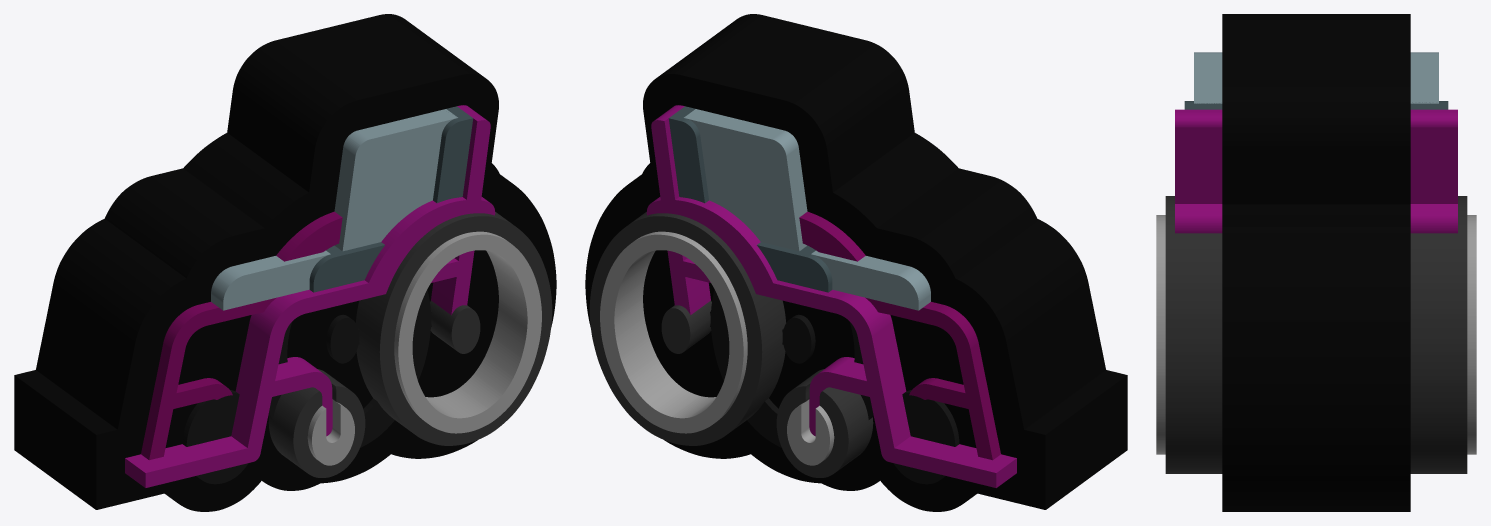
The picture shows the model from 3 angles, left to right: view 1: azimuth 30°, elevation 25°; view 2: azimuth 150°, elevation 25°; view 3: azimuth 270°, elevation 25°; orthographic projection. The views are drawn at different scales.
Visible parts, largest first — view 1: U+1F9BD_layer00_obj00, U+1F9BD_layer05_obj00, U+1F9BD_layer06_obj00, U+1F9BD_layer07_obj00, U+1F9BD_layer03_obj00, U+1F9BD_layer02_obj00, U+1F9BD_layer01_obj00, U+1F9BD_layer04_obj00; view 2: U+1F9BD_layer00_obj00, U+1F9BD_layer05_obj00, U+1F9BD_layer06_obj00, U+1F9BD_layer07_obj00, U+1F9BD_layer03_obj00, U+1F9BD_layer02_obj00, U+1F9BD_layer01_obj00, U+1F9BD_layer04_obj00; view 3: U+1F9BD_layer00_obj00, U+1F9BD_layer06_obj00, U+1F9BD_layer05_obj00, U+1F9BD_layer07_obj00, U+1F9BD_layer03_obj00, U+1F9BD_layer04_obj00.
Boxes of the visible parts, x1,y1,x2,y2 form: U+1F9BD_layer00_obj00: (14, 14, 556, 511); U+1F9BD_layer05_obj00: (125, 105, 495, 487); U+1F9BD_layer06_obj00: (268, 211, 552, 477); U+1F9BD_layer07_obj00: (307, 231, 541, 465); U+1F9BD_layer03_obj00: (211, 109, 457, 310); U+1F9BD_layer02_obj00: (141, 211, 342, 460); U+1F9BD_layer01_obj00: (182, 289, 431, 484); U+1F9BD_layer04_obj00: (309, 106, 473, 292); U+1F9BD_layer00_obj00: (585, 14, 1127, 511); U+1F9BD_layer05_obj00: (646, 105, 1016, 487); U+1F9BD_layer06_obj00: (589, 211, 873, 477); U+1F9BD_layer07_obj00: (600, 231, 834, 465); U+1F9BD_layer03_obj00: (684, 109, 930, 310); U+1F9BD_layer02_obj00: (799, 211, 1000, 460); U+1F9BD_layer01_obj00: (710, 289, 959, 484); U+1F9BD_layer04_obj00: (668, 106, 832, 292); U+1F9BD_layer00_obj00: (1222, 14, 1410, 511); U+1F9BD_layer06_obj00: (1165, 196, 1467, 473); U+1F9BD_layer05_obj00: (1175, 109, 1457, 233); U+1F9BD_layer07_obj00: (1156, 215, 1476, 454); U+1F9BD_layer03_obj00: (1194, 52, 1438, 103); U+1F9BD_layer04_obj00: (1184, 101, 1448, 109).
Bounding box in the file's own units: 0.6491 × 0.5071 × 0.34.
